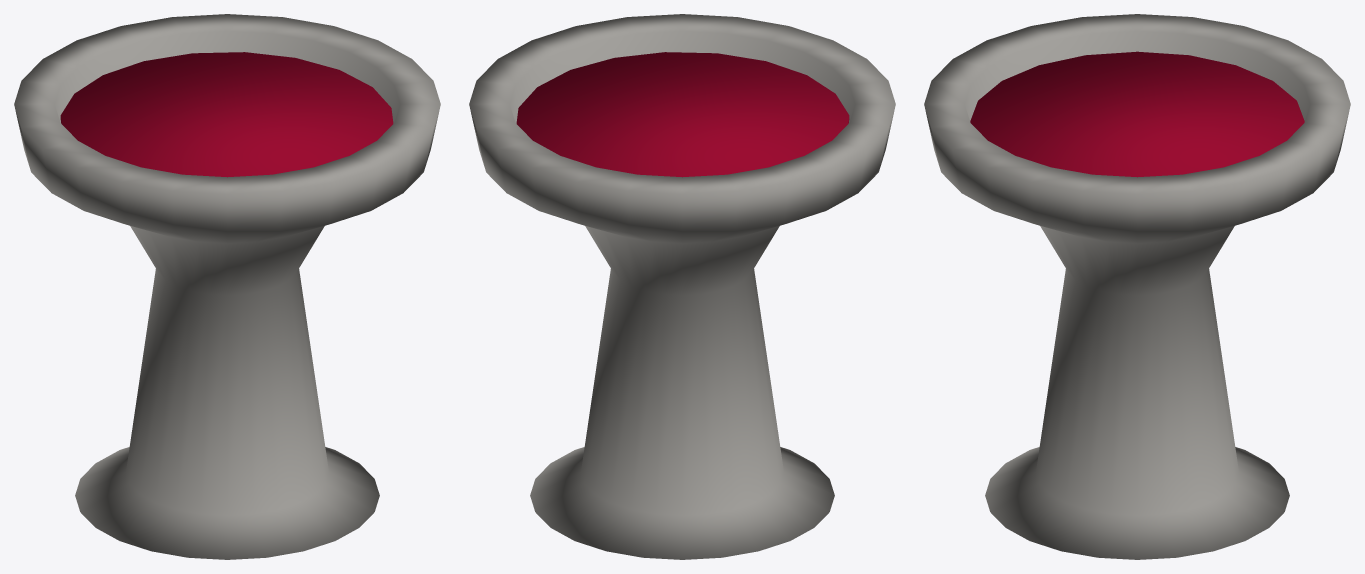
Rendered from font_blood_font.glb.
3 renders of one model, left to right at view 1: azimuth 30°, elevation 25°; view 2: azimuth 150°, elevation 25°; view 3: azimuth 270°, elevation 25°, orthographic.
Parts seen in each view (by area): view 1: GD_font_blood_font__m0, GD_font_blood_font__m1; view 2: GD_font_blood_font__m0, GD_font_blood_font__m1; view 3: GD_font_blood_font__m0, GD_font_blood_font__m1.
Part boxes in pixels (<box>): GD_font_blood_font__m0: <box>14,14,440,559</box>; GD_font_blood_font__m1: <box>60,52,393,177</box>; GD_font_blood_font__m0: <box>469,14,895,559</box>; GD_font_blood_font__m1: <box>516,52,849,177</box>; GD_font_blood_font__m0: <box>924,14,1350,559</box>; GD_font_blood_font__m1: <box>970,51,1304,177</box>.
Bounding box in the file's own units: 0.84 × 0.85 × 0.84.
